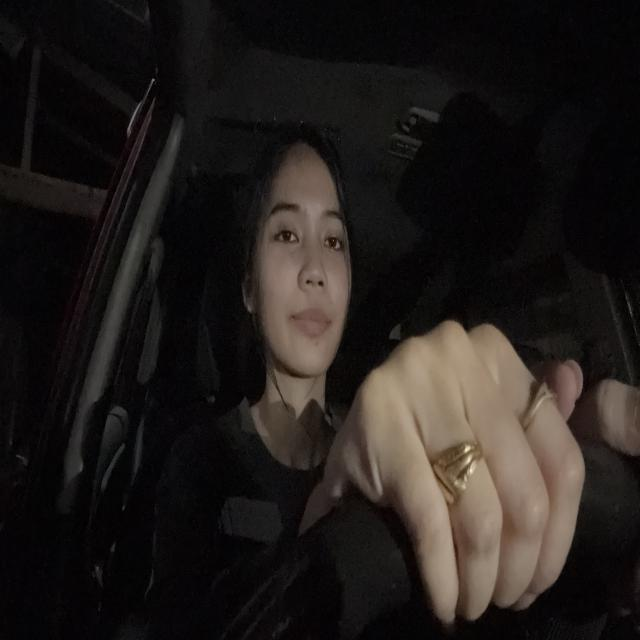open: (261, 194, 304, 258), (313, 202, 351, 269)
